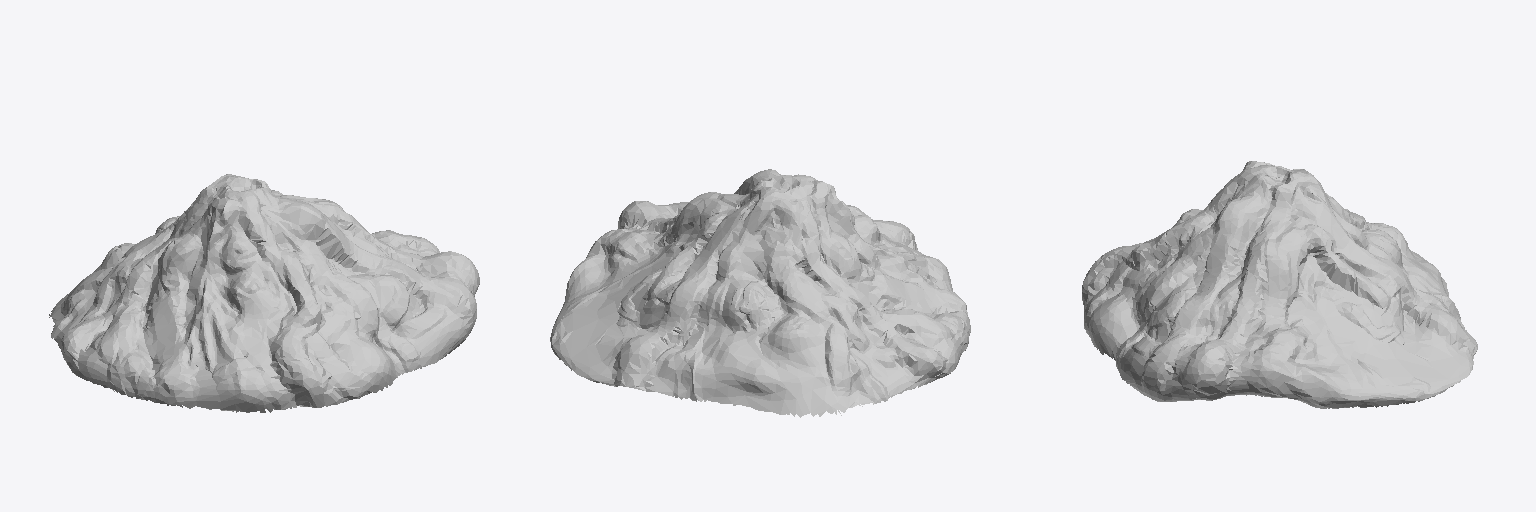
File: Volcano.obj
3 views of the same model, side by side, from view 1: azimuth 30°, elevation 25°; view 2: azimuth 150°, elevation 25°; view 3: azimuth 270°, elevation 25° (orthographic).
Visible parts, largest first — view 1: Cube.001; view 2: Cube.001; view 3: Cube.001.
Part boxes in pixels (bbox=[...]): Cube.001: bbox=[49, 174, 479, 412]; Cube.001: bbox=[550, 169, 970, 417]; Cube.001: bbox=[1082, 161, 1477, 408].
Size of the model in its own units: 9.24 by 3.7 by 8.66.